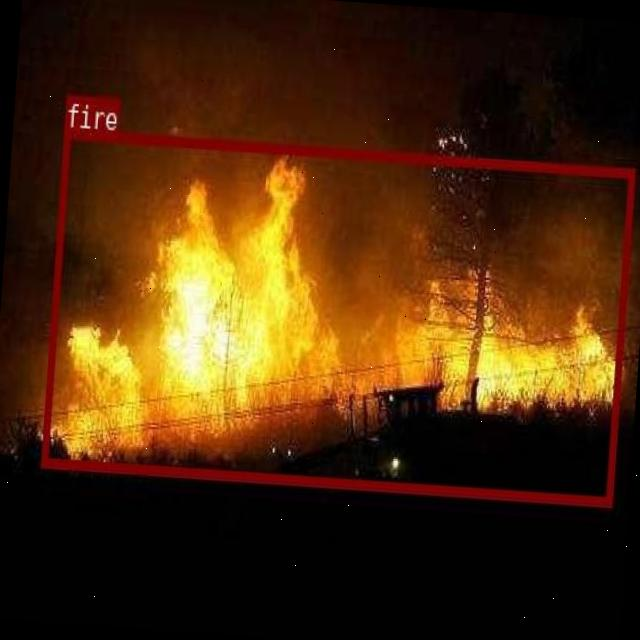fire: (41, 128, 634, 504)
